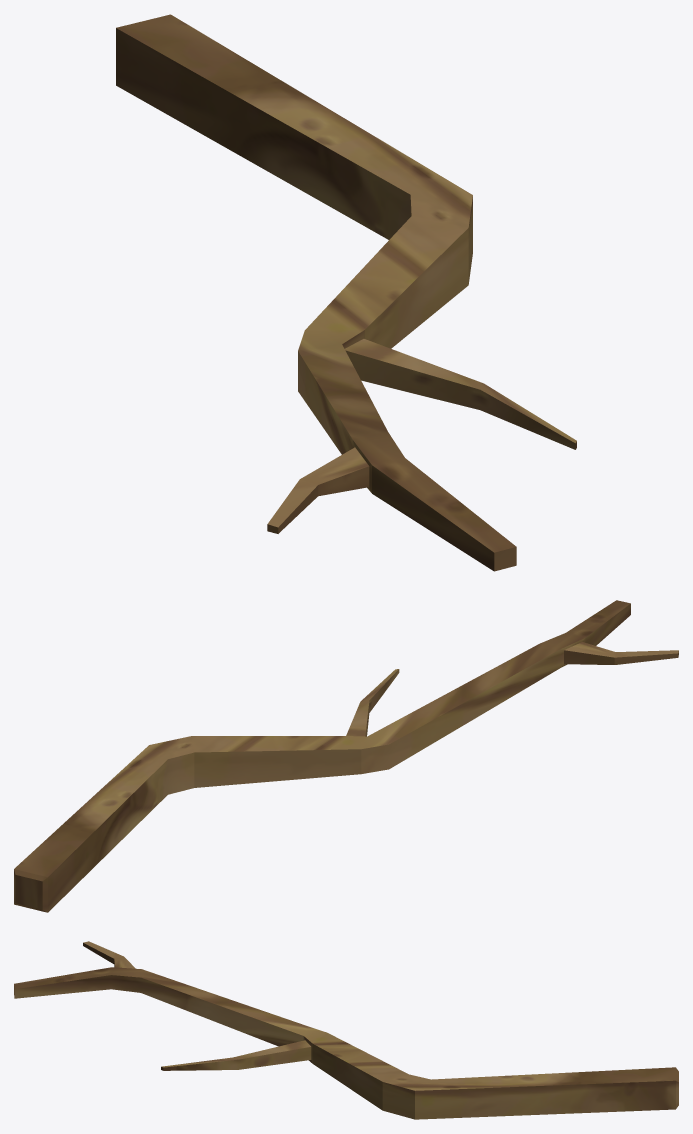
File: stick.fbx
3 renders of one model, top to bottom at view 1: azimuth 30°, elevation 25°; view 2: azimuth 150°, elevation 25°; view 3: azimuth 270°, elevation 25°, orthographic. The views are drawn at different scales.
Visible parts, largest first — view 1: stick; view 2: stick; view 3: stick.
Boxes of the visible parts, bbox=[...] form: stick: bbox=[116, 14, 576, 571]; stick: bbox=[14, 600, 678, 912]; stick: bbox=[14, 941, 678, 1119].
Size of the model in its own units: 14.39 by 2.82 by 31.17.
